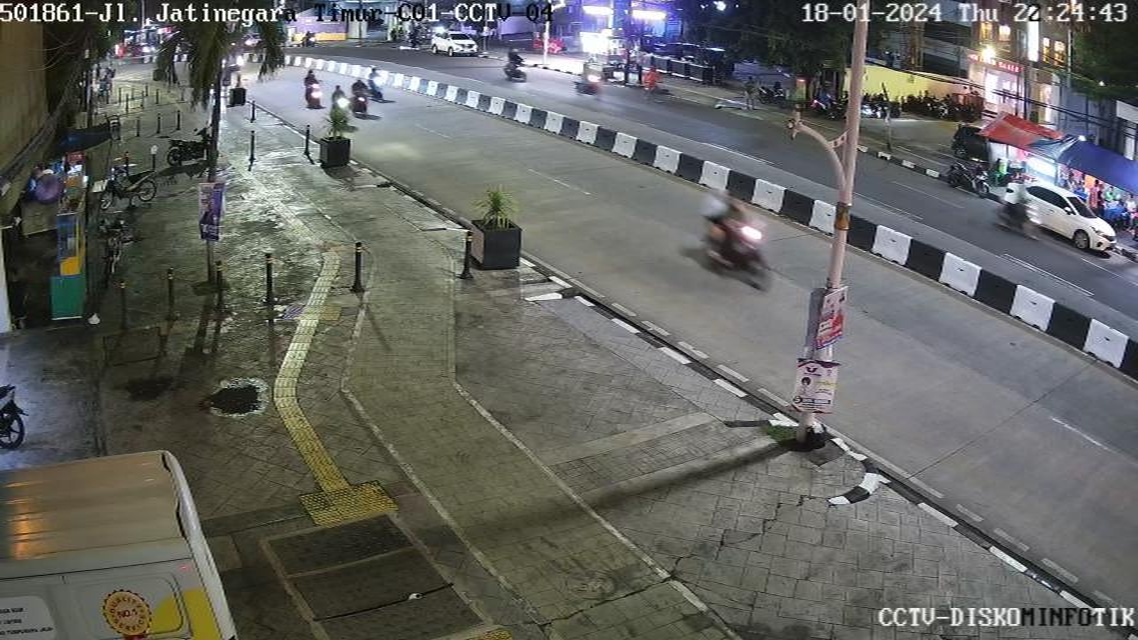Gerobak: (34, 187, 105, 352)
